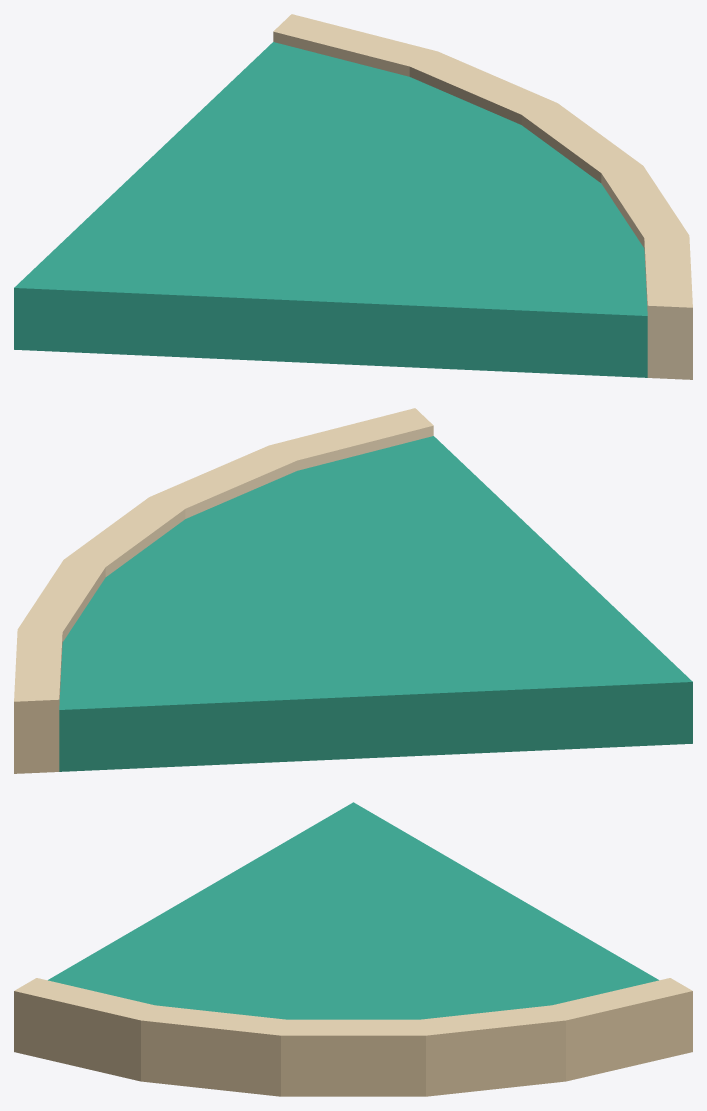
File: pie_slice_5.glb
3 views of the same model, one above another, from view 1: azimuth 30°, elevation 25°; view 2: azimuth 150°, elevation 25°; view 3: azimuth 270°, elevation 25° (orthographic). The views are drawn at different scales.
Parts seen in each view (by area): view 1: slice; view 2: slice; view 3: slice.
Part boxes in pixels (box(x1,y1,x2,y2)): slice: box(14, 14, 692, 379); slice: box(14, 408, 692, 773); slice: box(14, 802, 692, 1096).
Size of the model in its own units: 0.0595 by 0.007 by 0.0705.
